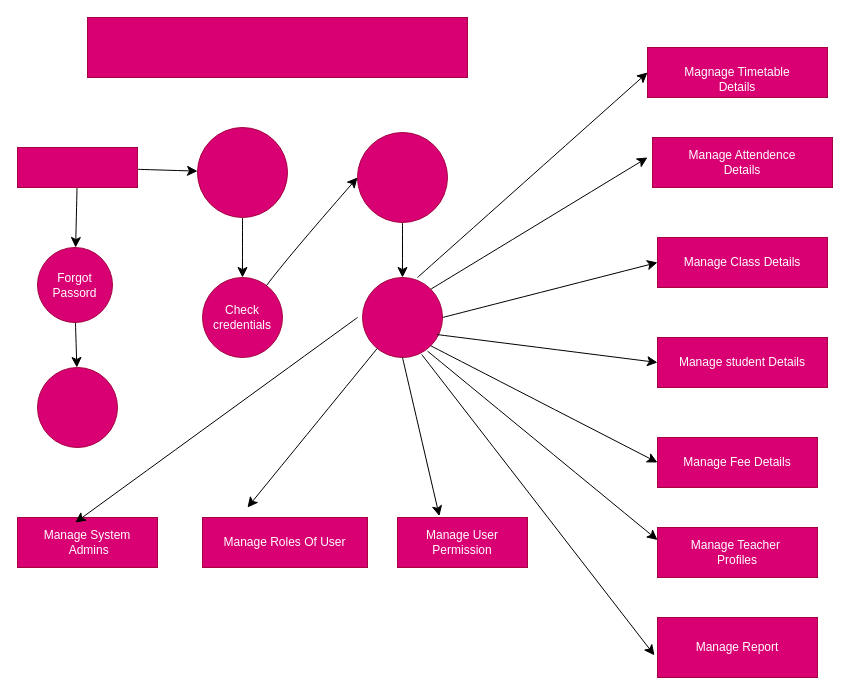
Image size: 850x695. Some labels were removed from this diagram. The centre of each missing label's shape, as x and y in pixels:
Admin: point 77,167
Check Roles of Access: point 402,177
Login to System: point 242,172
Manage Modules: point 402,317
Send Email to user: point 77,407
Student Information System: point 277,47
